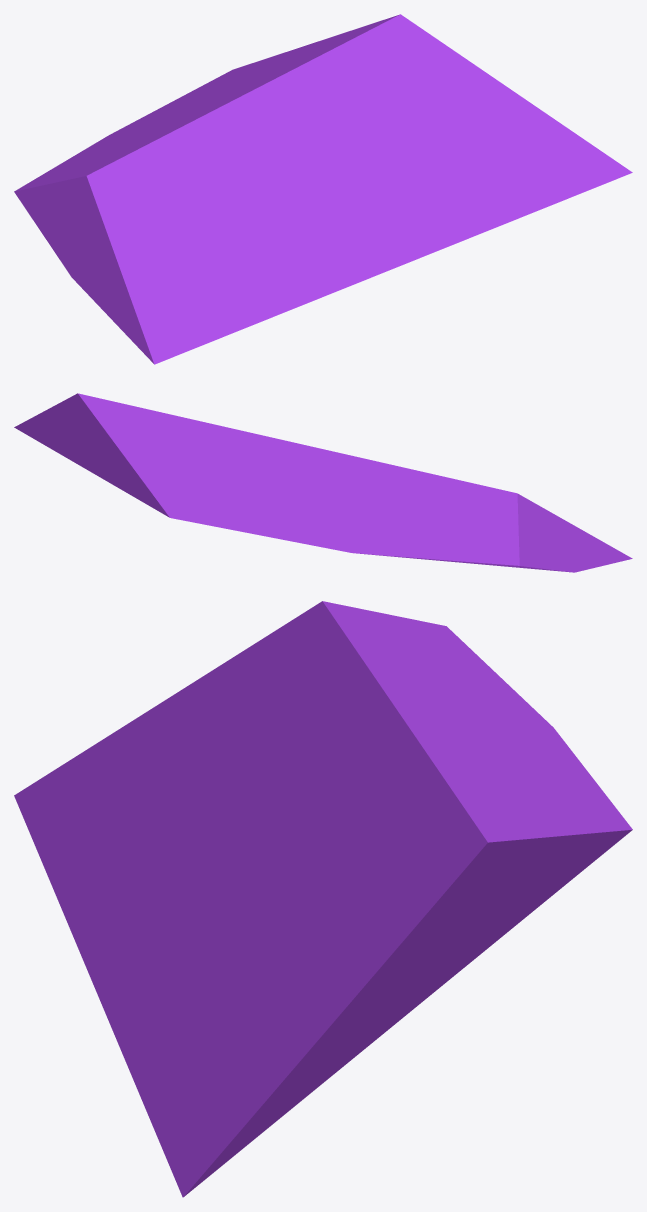
Rendered from Window_151_4_chunks.fbx.
3 views of the same model, one above another, from view 1: azimuth 30°, elevation 25°; view 2: azimuth 150°, elevation 25°; view 3: azimuth 270°, elevation 25° (orthographic). The views are drawn at different scales.
Parts seen in each view (by area): view 1: Window_151_4_0; view 2: Window_151_4_0; view 3: Window_151_4_0.
Boxes of the visible parts, box(x1,y1,x2,y2) form: Window_151_4_0: box(14, 14, 632, 364); Window_151_4_0: box(14, 393, 632, 572); Window_151_4_0: box(14, 601, 632, 1197).
Bounding box in the file's own units: 473 × 132 × 264.
